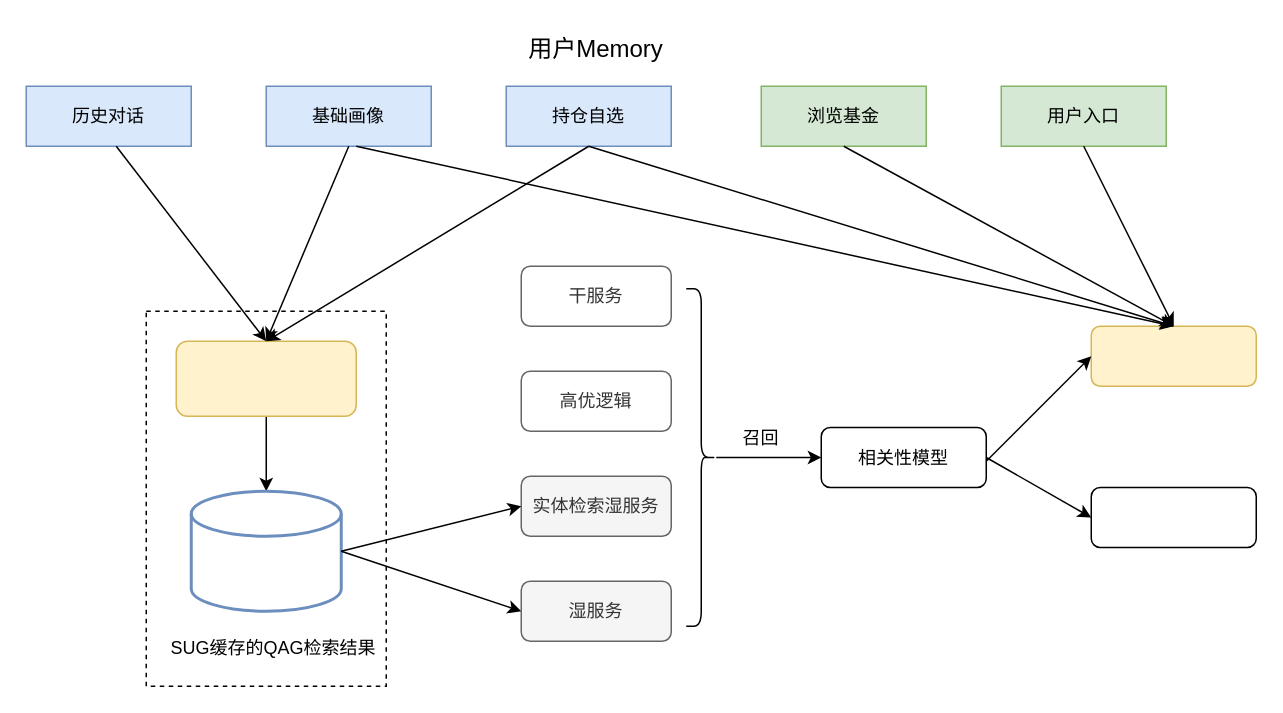
Image size: 1283x713. Some labels were removed from this diagram. The centre of each missing label's shape, as x and y in pixels:
CTR模型: [1173,355]
QAG-LLM: [265,378]
定坑规则排序: [1173,517]
投教精选池: [265,550]
